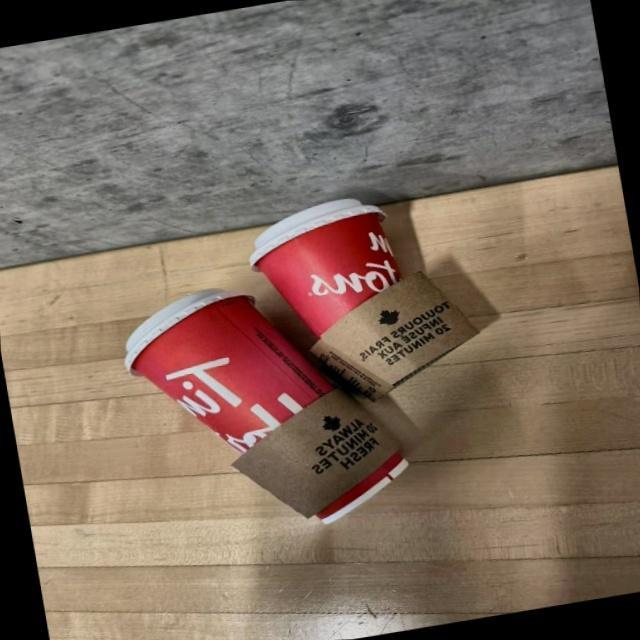timmies: (120, 275, 418, 527), (240, 185, 420, 382)
